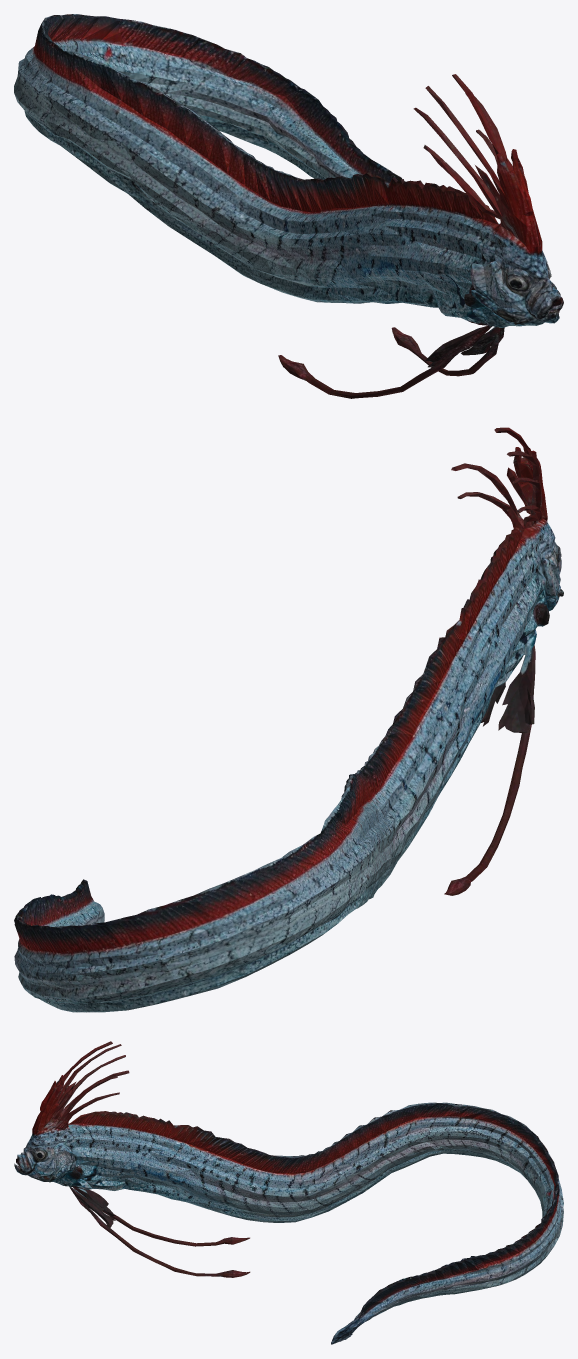
File: SAKANA.obj
3 renders of one model, top to bottom at view 1: azimuth 30°, elevation 25°; view 2: azimuth 150°, elevation 25°; view 3: azimuth 270°, elevation 25°, orthographic. The views are drawn at different scales.
Visible parts, largest first — view 1: tripo_node_f4b635b3-bd6d-4401-8c52-6a6099408778; view 2: tripo_node_f4b635b3-bd6d-4401-8c52-6a6099408778; view 3: tripo_node_f4b635b3-bd6d-4401-8c52-6a6099408778.
Part boxes in pixels (<box>): tripo_node_f4b635b3-bd6d-4401-8c52-6a6099408778: <box>14,14,563,398</box>; tripo_node_f4b635b3-bd6d-4401-8c52-6a6099408778: <box>14,427,563,1012</box>; tripo_node_f4b635b3-bd6d-4401-8c52-6a6099408778: <box>14,1041,563,1344</box>.
Bounding box in the file's own units: 0.4495 × 0.4668 × 0.9797.
1 material, 1 textured.
